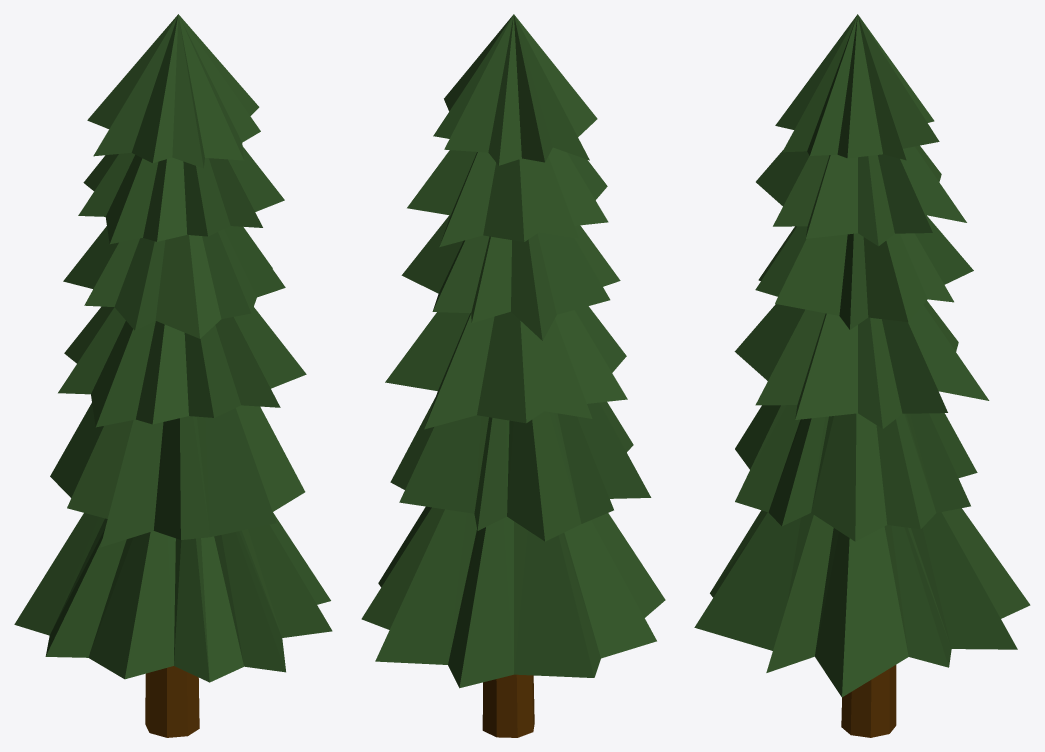
The model's file is Tree4.fbx.
3 views of the same model, side by side, from view 1: azimuth 30°, elevation 25°; view 2: azimuth 150°, elevation 25°; view 3: azimuth 270°, elevation 25° (orthographic).
Parts seen in each view (by area): view 1: Tree4; view 2: Tree4; view 3: Tree4.
Boxes of the visible parts, x1=… form: Tree4: x1=14, y1=14, x2=332, y2=737; Tree4: x1=361, y1=14, x2=665, y2=737; Tree4: x1=694, y1=14, x2=1030, y2=737.
Size of the model in its own units: 181 by 435 by 186.
